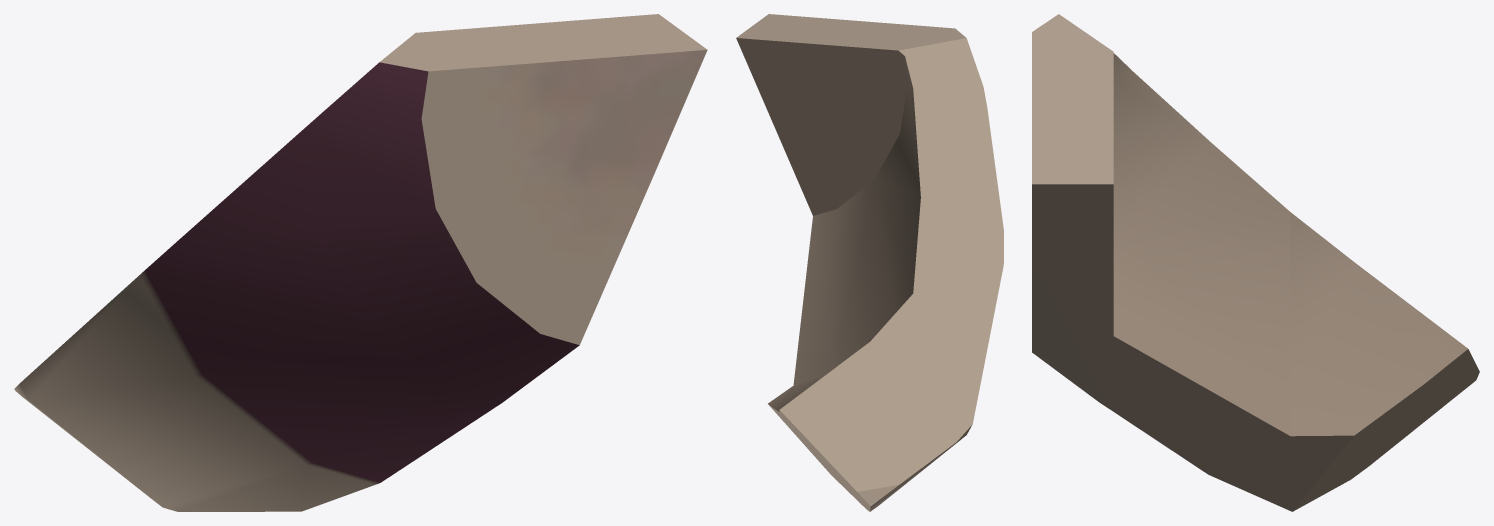
Rendered from Pot_Cell9.fbx.
3 renders of one model, left to right at view 1: azimuth 30°, elevation 25°; view 2: azimuth 150°, elevation 25°; view 3: azimuth 270°, elevation 25°, orthographic. The views are drawn at different scales.
Visible parts, largest first — view 1: jar1_cell.009; view 2: jar1_cell.009; view 3: jar1_cell.009.
Part boxes in pixels (box(x1,y1,x2,y2)): jar1_cell.009: box(14, 14, 707, 511); jar1_cell.009: box(736, 14, 1003, 511); jar1_cell.009: box(1032, 14, 1479, 511).
Bounding box in the file's own units: 98.88 × 109 × 92.64.
1 material, 1 textured.
